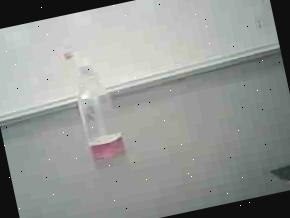hazard: (61, 40, 132, 168)
